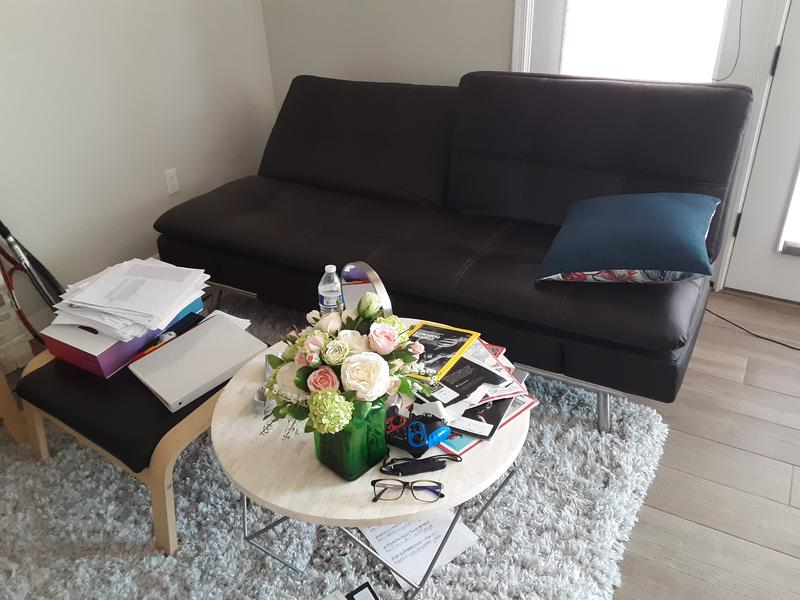glasses: (370, 476, 445, 505)
